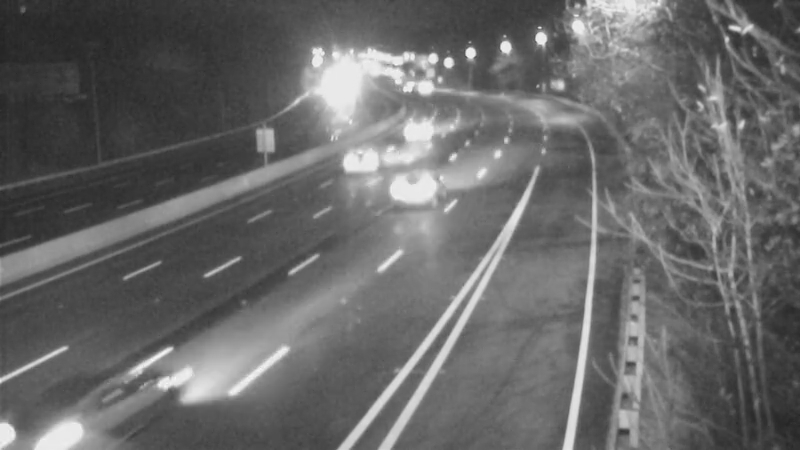vehicle: (1, 355, 105, 450), (319, 119, 399, 199), (389, 145, 469, 225), (402, 66, 452, 116), (380, 62, 430, 112), (394, 100, 444, 150)
